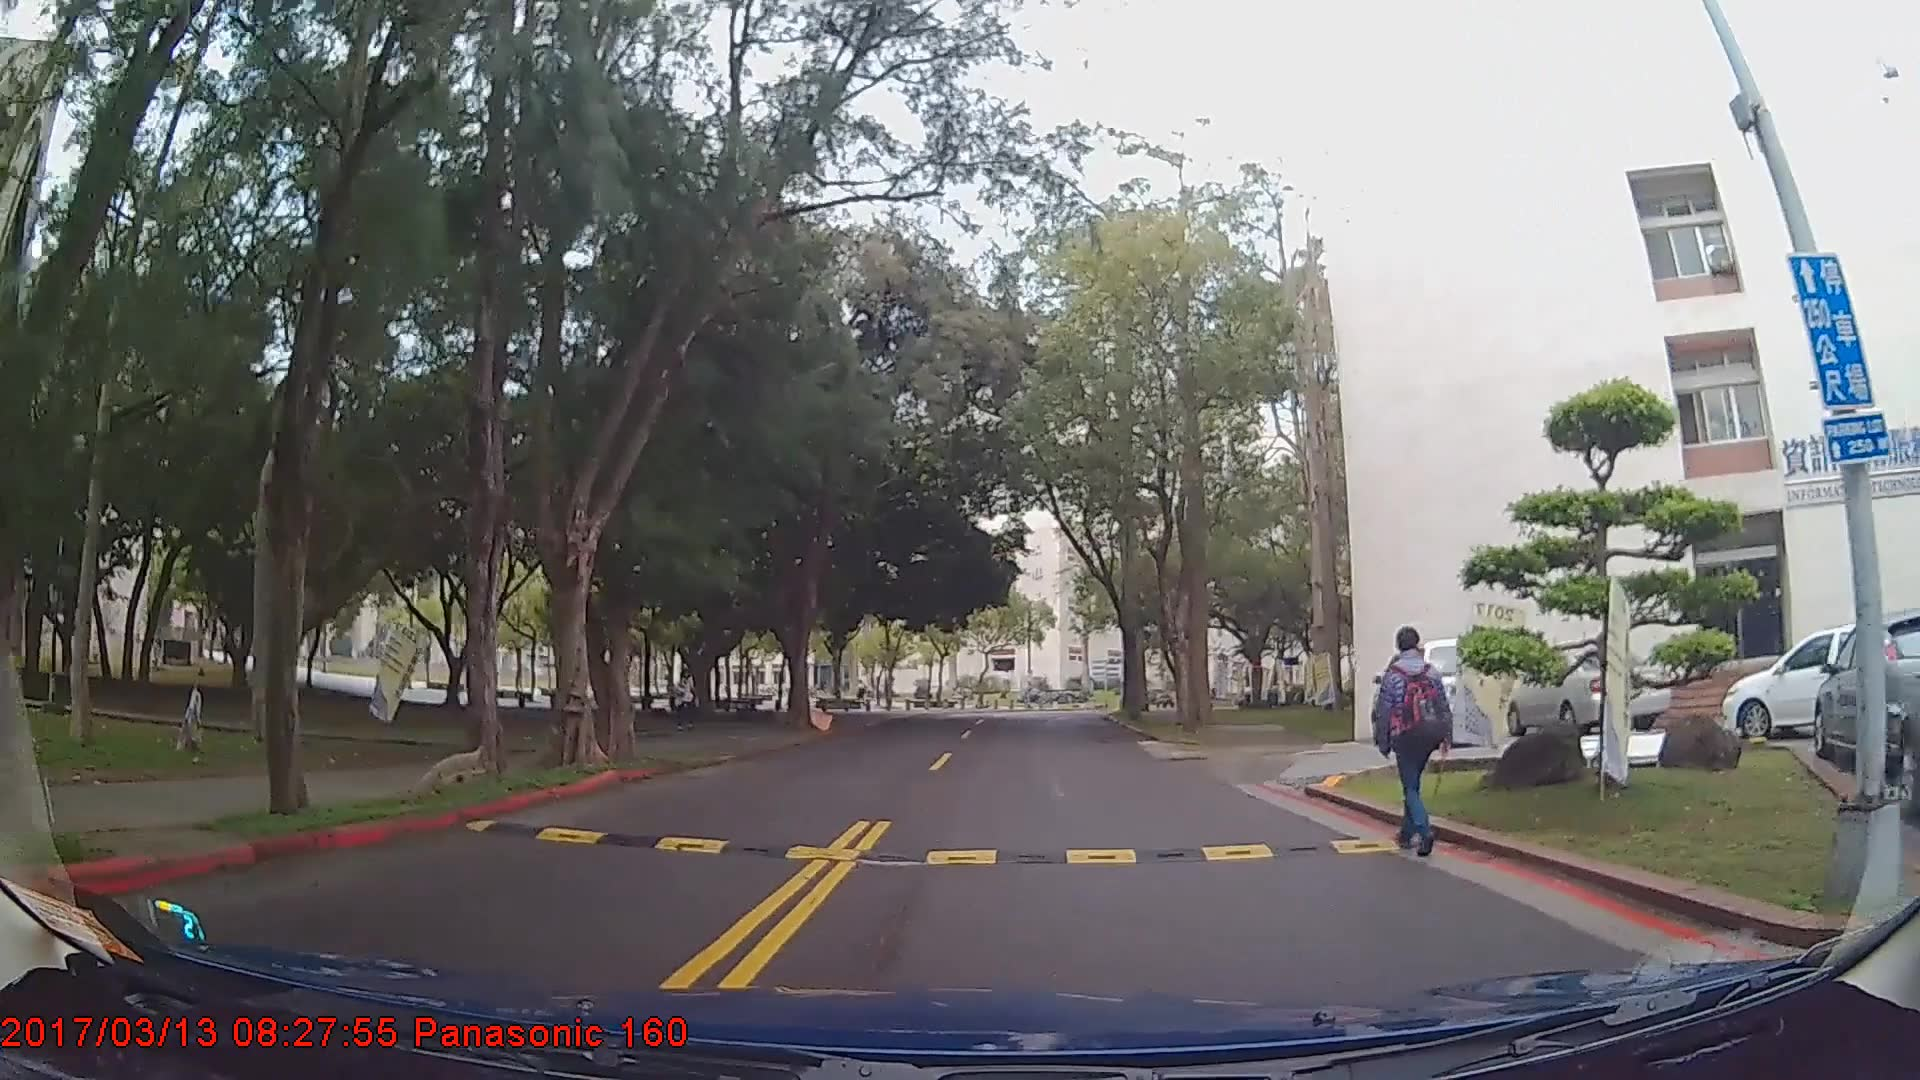pedestrian: (1374, 620, 1454, 856), (673, 668, 701, 731)
vehicle: (1719, 626, 1889, 741)
